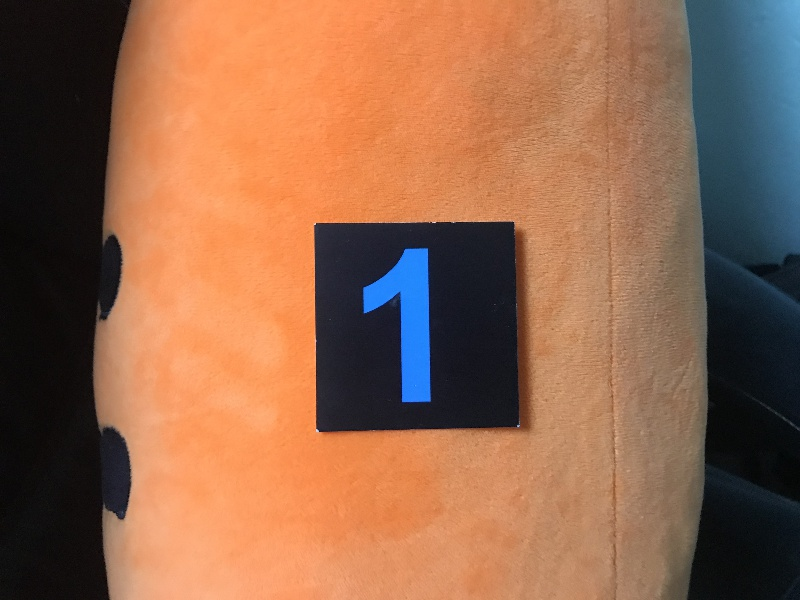One-6: (317, 222, 512, 426)
